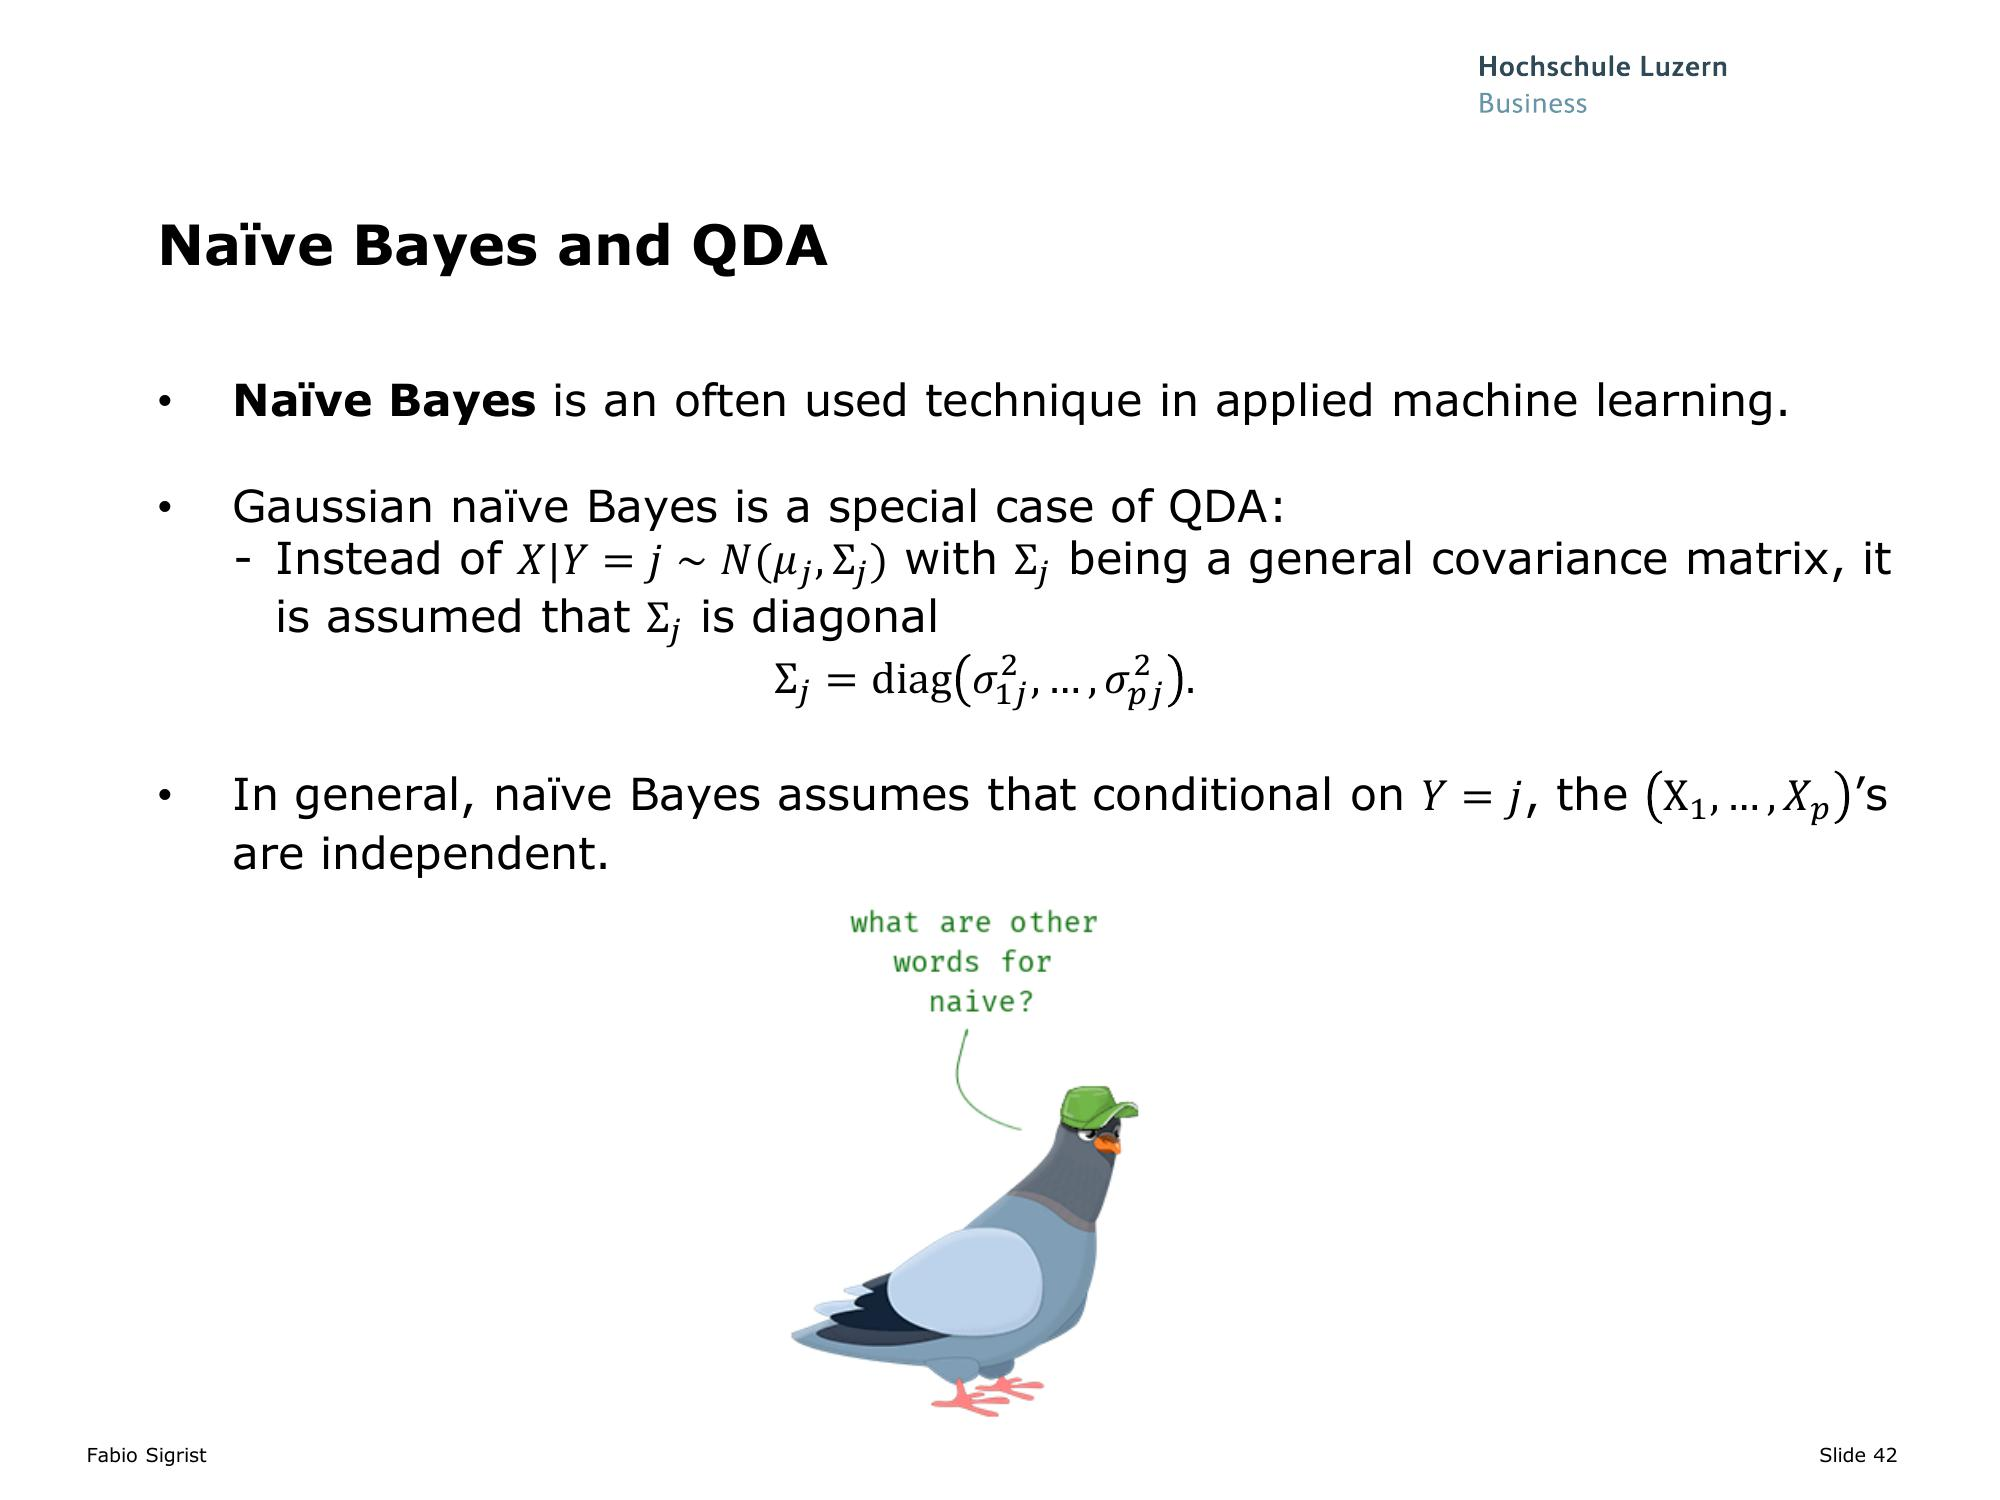Title: (143, 214, 857, 288)
